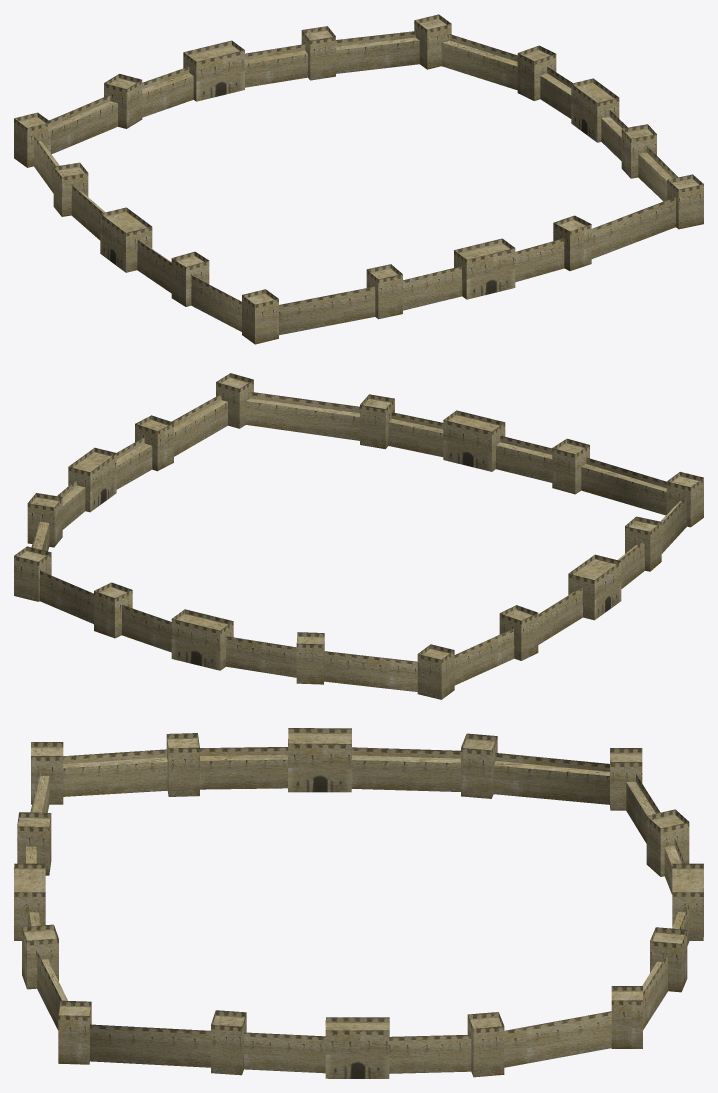
The model's file is settlement_walls_eastern.dae.
The picture shows the model from 3 angles, top to bottom: view 1: azimuth 30°, elevation 25°; view 2: azimuth 150°, elevation 25°; view 3: azimuth 270°, elevation 25°; orthographic projection. The views are drawn at different scales.
Parts seen in each view (by area): view 1: Mesh1_Wall__; view 2: Mesh1_Wall__; view 3: Mesh1_Wall__.
Boxes of the visible parts, x1,y1,x2,y2 form: Mesh1_Wall__: (14,14,703,344); Mesh1_Wall__: (14,373,703,699); Mesh1_Wall__: (14,728,703,1078).
Size of the model in its own units: 43.31 by 3.25 by 41.78.
